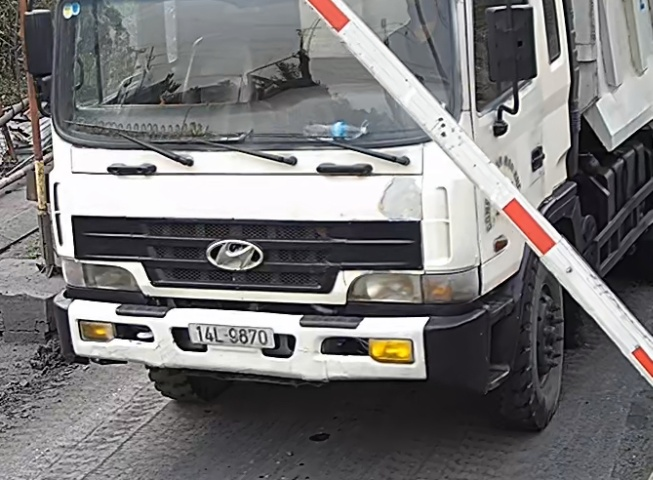vehicle plate: (185, 320, 278, 350)
